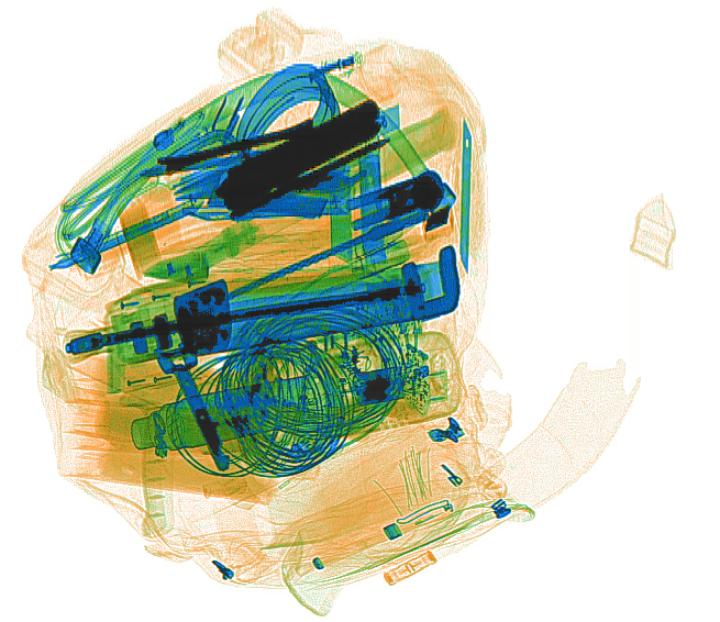knife: (457, 114, 472, 278)
